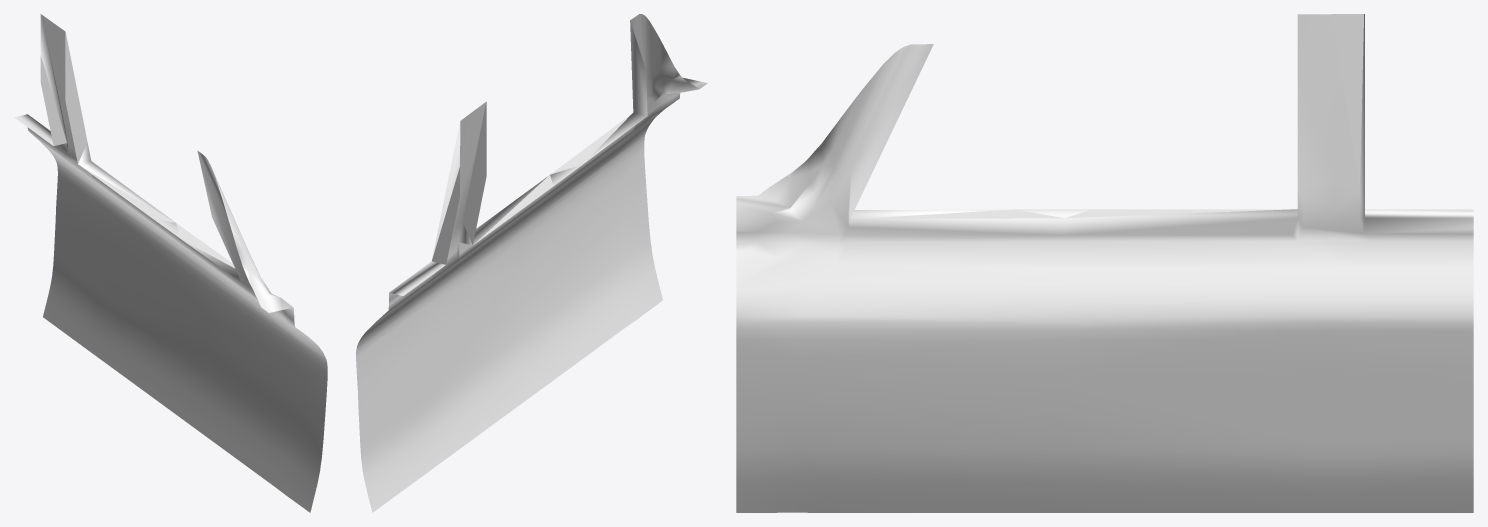
3 views of the same model, side by side, from view 1: azimuth 30°, elevation 25°; view 2: azimuth 150°, elevation 25°; view 3: azimuth 270°, elevation 25° (orthographic). The views are drawn at different scales.
Bounding box in the file's own units: 0.1496 × 0.8235 × 1.17.
Materials: 1 (1 with a texture image).
